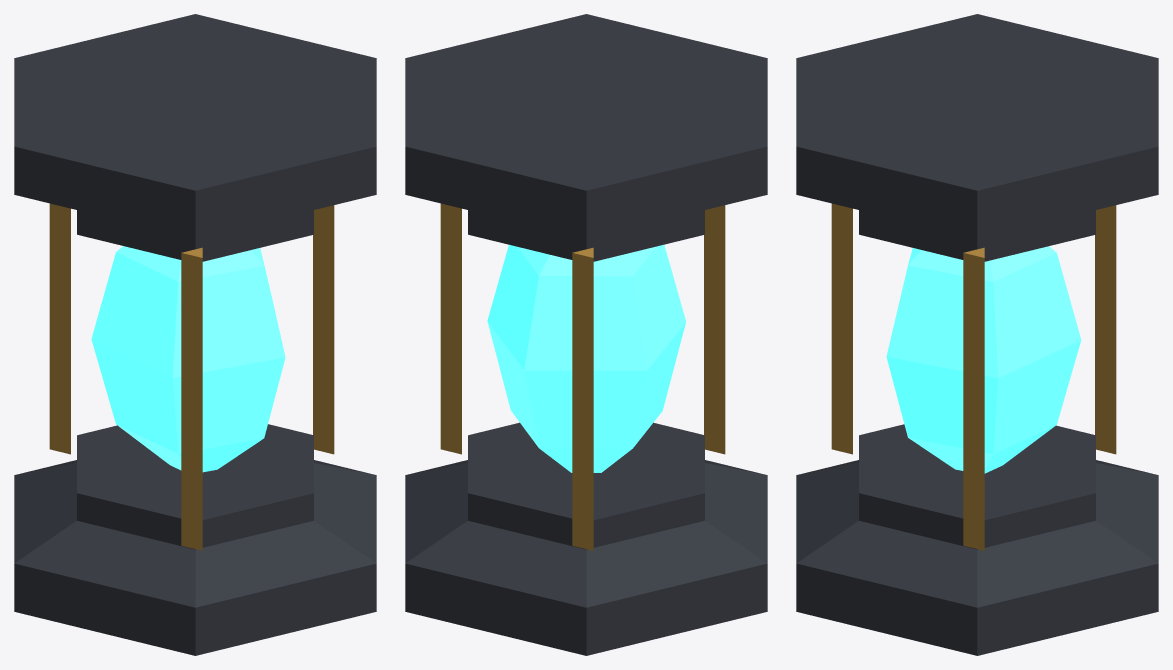
The model's file is SM_Prop_LiftCore_LQ.glb.
3 views of the same model, side by side, from view 1: azimuth 30°, elevation 25°; view 2: azimuth 150°, elevation 25°; view 3: azimuth 270°, elevation 25° (orthographic).
Visible parts, largest first — view 1: SM_Prop_LiftCore_LQ; view 2: SM_Prop_LiftCore_LQ; view 3: SM_Prop_LiftCore_LQ.
Boxes of the visible parts, box(x1,y1,x2,y2) form: SM_Prop_LiftCore_LQ: box(14, 14, 376, 655); SM_Prop_LiftCore_LQ: box(405, 14, 767, 655); SM_Prop_LiftCore_LQ: box(796, 14, 1158, 655).
Bounding box in the file's own units: 2.2 × 2.7 × 1.91.
1 material, 1 textured.
